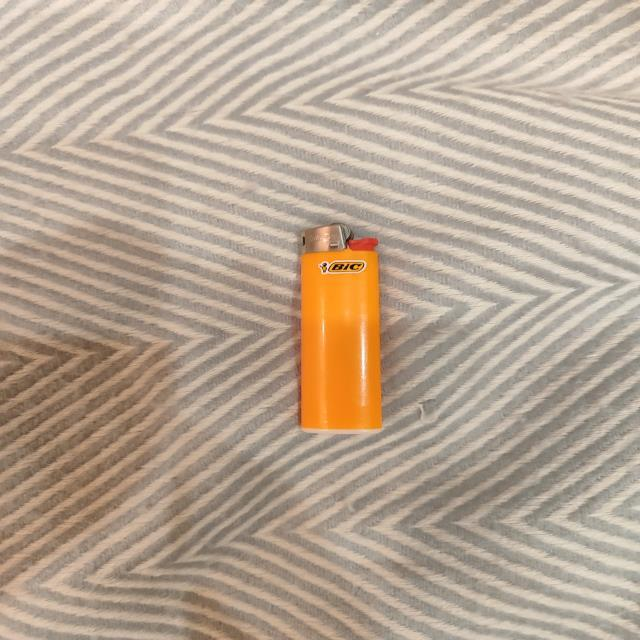lighter: (300, 225, 380, 430)
